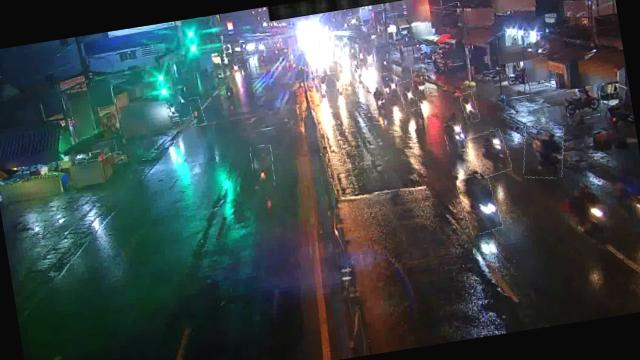Bike: (518, 121, 570, 180), (458, 172, 502, 236), (469, 128, 511, 178), (564, 86, 602, 120), (250, 144, 276, 187), (444, 121, 466, 152), (460, 90, 480, 122), (368, 84, 388, 116), (399, 79, 419, 111), (480, 68, 510, 88), (411, 64, 428, 96), (382, 72, 400, 102), (188, 95, 204, 126)
